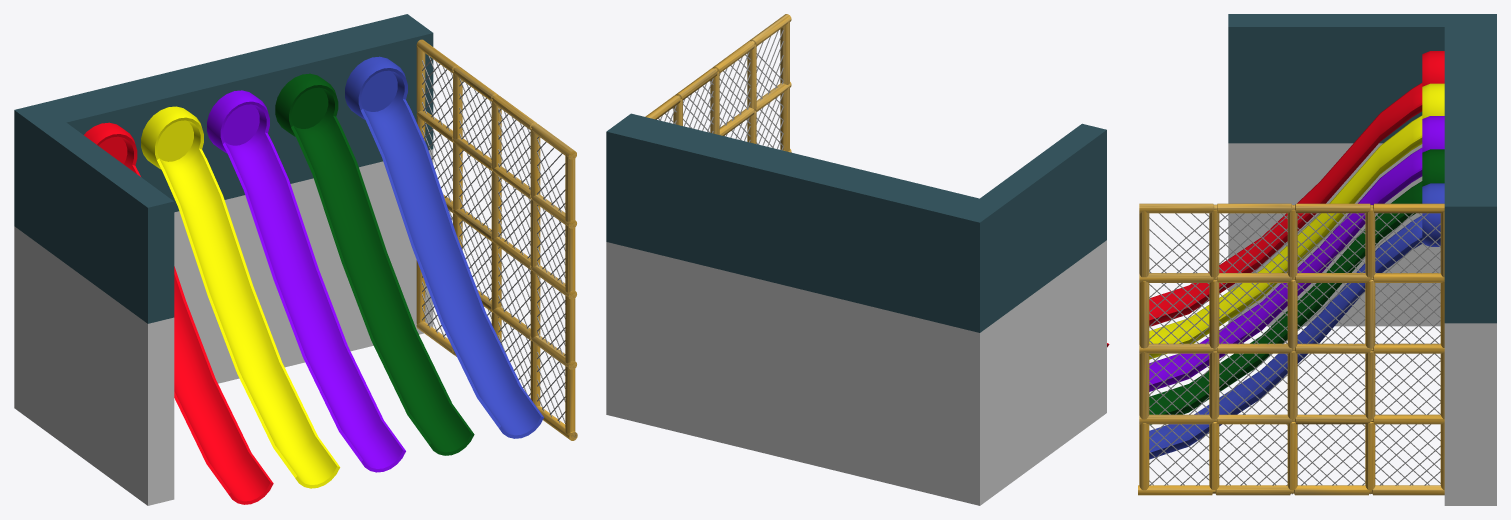
The model's file is Escorregador.fbx.
3 renders of one model, left to right at view 1: azimuth 30°, elevation 25°; view 2: azimuth 150°, elevation 25°; view 3: azimuth 270°, elevation 25°, orthographic. The views are drawn at different scales.
Parts seen in each view (by area): view 1: Escorregador; view 2: Escorregador; view 3: Escorregador.
Part boxes in pixels (<box>): Escorregador: <box>14,14,577,505</box>; Escorregador: <box>606,14,1109,505</box>; Escorregador: <box>1138,14,1496,505</box>.
Bounding box in the file's own units: 941 × 681 × 740.
